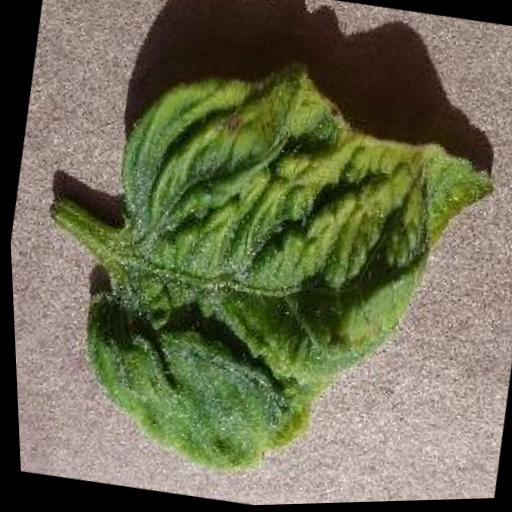Yellow Leaf Curl Virus: (48, 33, 512, 511)
